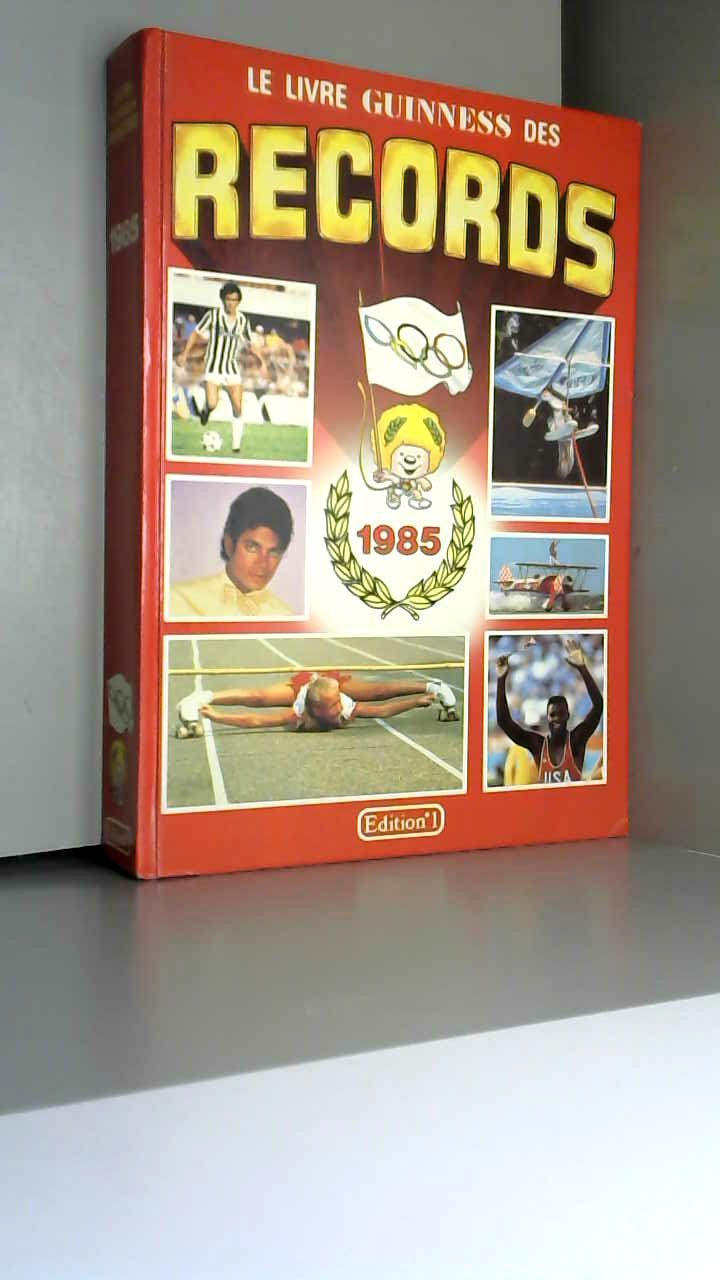book: (70, 0, 717, 898)
